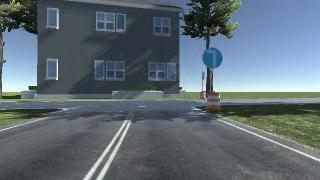turn_left: (203, 48, 222, 68)
